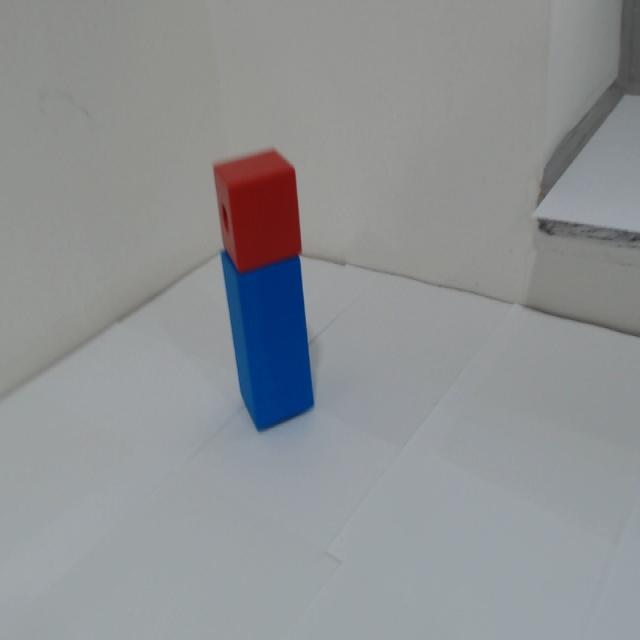cube: (202, 145, 318, 277)
